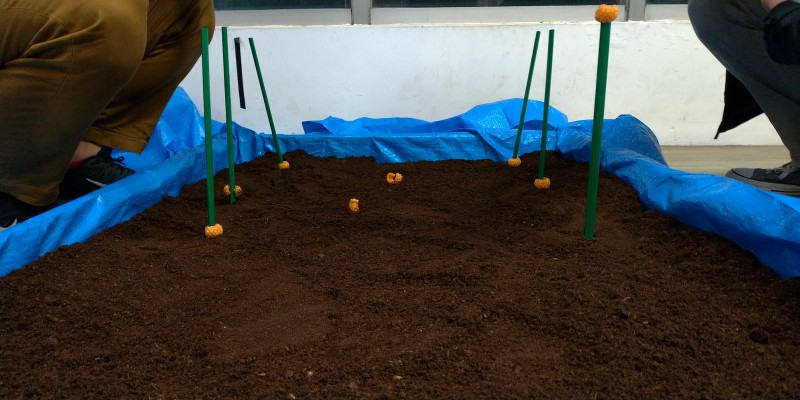eggs: (220, 180, 246, 202), (200, 220, 225, 242), (594, 4, 619, 26), (531, 174, 553, 191), (385, 168, 404, 186), (343, 196, 363, 213), (276, 157, 293, 171), (506, 154, 523, 168)
